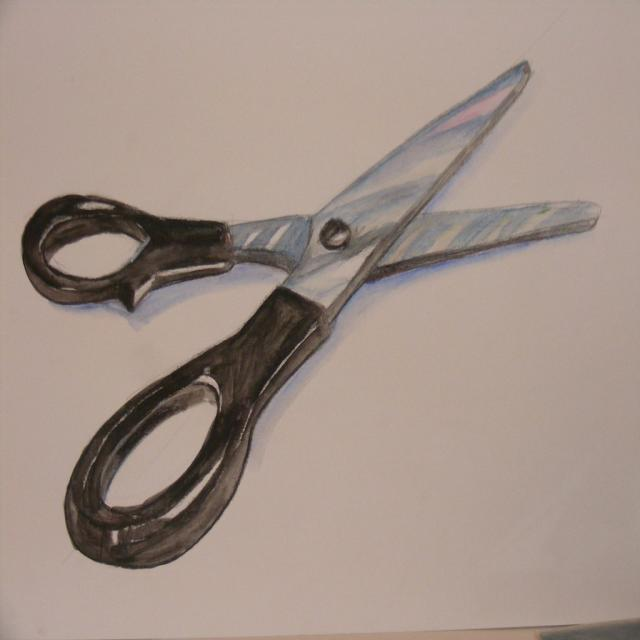scissors: (21, 59, 600, 568)
